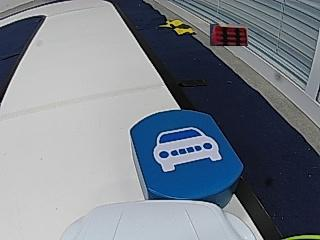safety: (153, 127, 223, 170)
